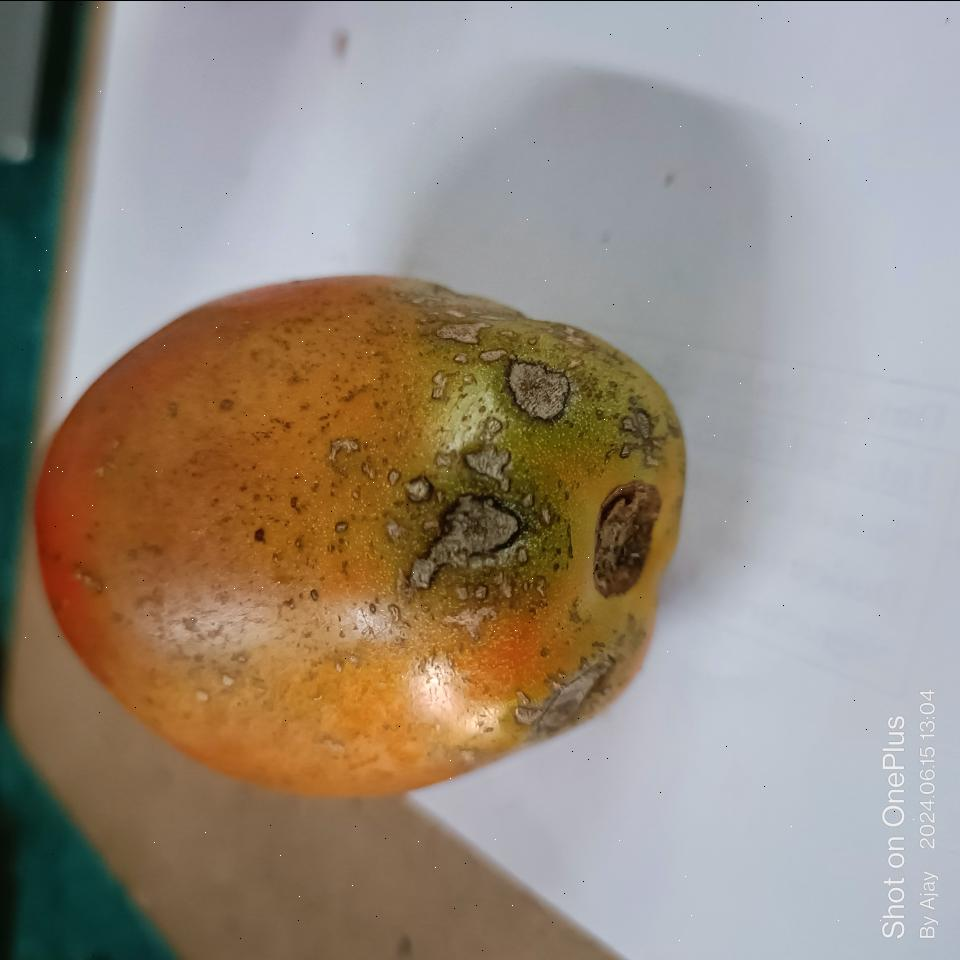Bacterial_Spot: (390, 448, 556, 598), (588, 474, 662, 603), (513, 665, 580, 734), (493, 359, 565, 422), (618, 400, 656, 458)
